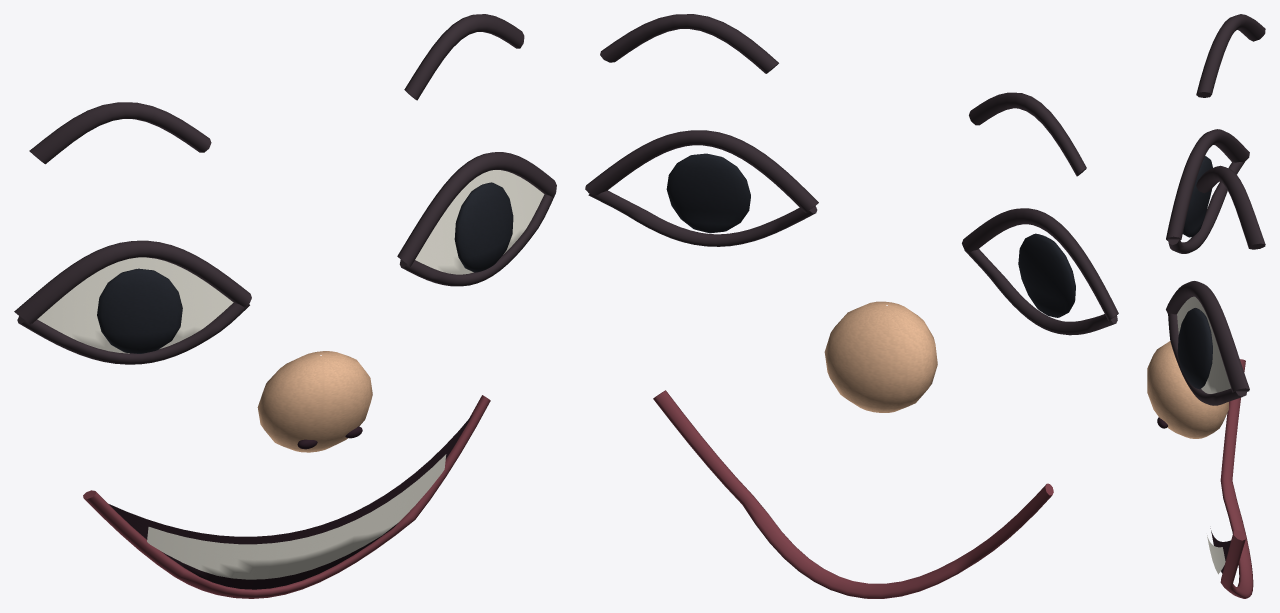
The model's file is face_dimpled_grin.gltf.
The picture shows the model from 3 angles, left to right: view 1: azimuth 30°, elevation 25°; view 2: azimuth 150°, elevation 25°; view 3: azimuth 270°, elevation 25°; orthographic projection. The views are drawn at different scales.
Parts seen in each view (by area): view 1: Double Take; view 2: Double Take; view 3: Double Take.
Boxes of the visible parts, x1,y1,x2,y2 form: Double Take: [14, 14, 556, 598]; Double Take: [585, 14, 1118, 598]; Double Take: [1147, 14, 1265, 598].
Size of the model in its own units: 0.2856 by 0.274 by 0.0599.
6 materials, 6 textured.
